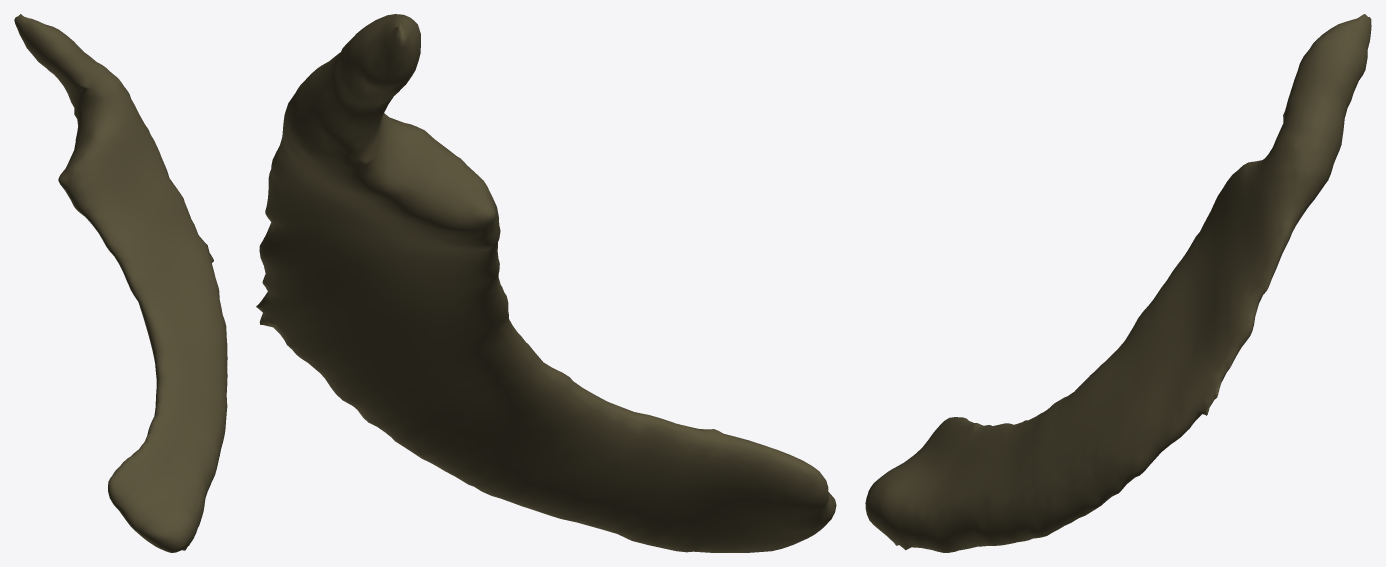
The model's file is segmentations_rib_right_1.obj.
3 views of the same model, side by side, from view 1: azimuth 30°, elevation 25°; view 2: azimuth 150°, elevation 25°; view 3: azimuth 270°, elevation 25° (orthographic). The views are drawn at different scales.
Parts seen in each view (by area): view 1: grp1; view 2: grp1; view 3: grp1.
Part boxes in pixels (x1=…): grp1: x1=14, y1=14, x2=227, y2=552; grp1: x1=256, y1=14, x2=836, y2=552; grp1: x1=865, y1=14, x2=1371, y2=552.
Bounding box in the file's own units: 26.04 × 49.51 × 42.09.
